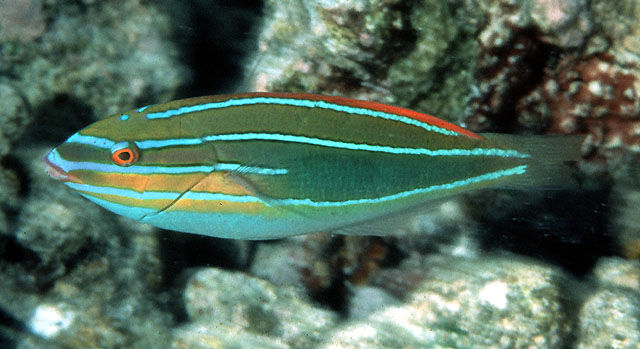fish: (44, 91, 584, 242)
